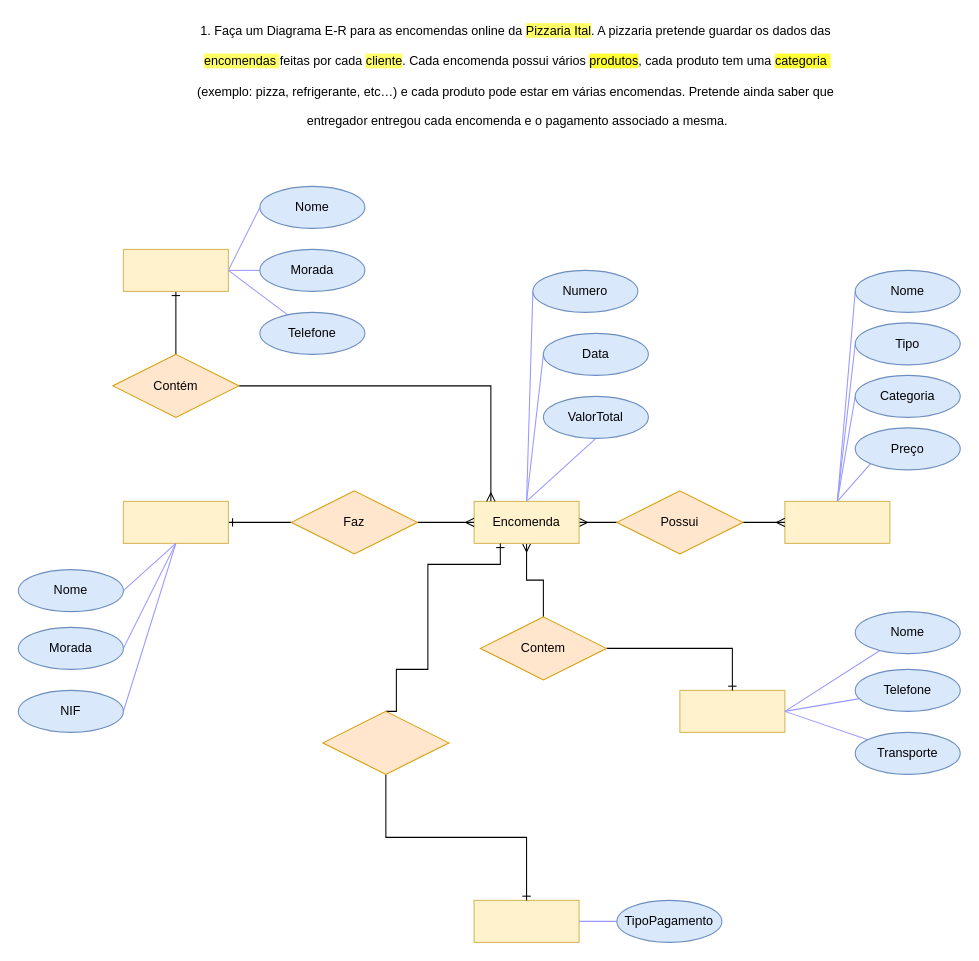
The diagram is 979 pixels wide and 961 high, and some of its shapes have lost their labels. The centre of each missing label's shape, as x and y in pixels:
"Cliente" belongs at [175,521].
"Entregador" belongs at [732,710].
"Pagamento" belongs at [526,920].
"Pizzaria" belongs at [175,269].
"Produto" belongs at [837,521].
"Tem" belongs at [385,742].
